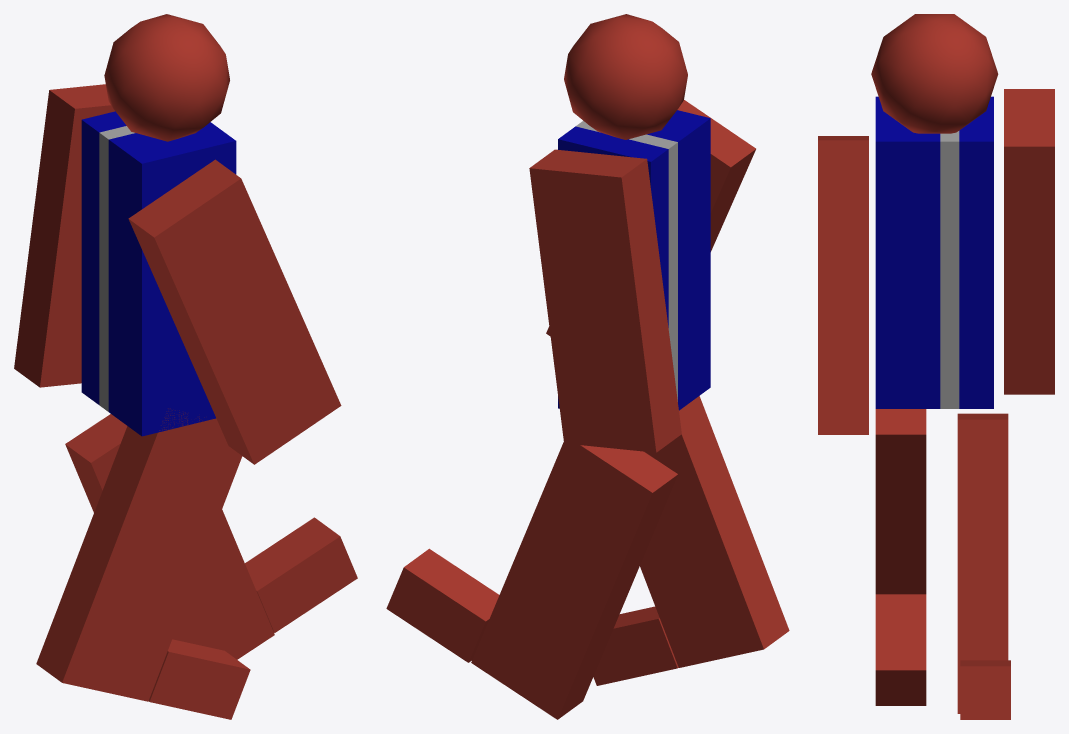
Rendered from player_000065.obj.
The picture shows the model from 3 angles, left to right: view 1: azimuth 30°, elevation 25°; view 2: azimuth 150°, elevation 25°; view 3: azimuth 270°, elevation 25°; orthographic projection. The views are drawn at different scales.
Visible parts, largest first — view 1: Cube.005, Cube.001, Cube, Cube.006, Icosphere, Cube.002, Cube.004, Cube.003; view 2: Cube.006, Cube.002, Cube.001, Cube, Icosphere, Cube.004, Cube.003, Cube.005; view 3: Cube, Cube.006, Cube.005, Cube.002, Icosphere, Cube.001, Cube.003, Cube.004.
Boxes of the visible parts, x1,y1,x2,y2 form: Cube.005: (128, 159, 341, 464); Cube.001: (36, 408, 242, 701); Cube: (81, 111, 236, 436); Cube.006: (14, 84, 114, 387); Icosphere: (104, 14, 229, 141); Cube.002: (65, 414, 274, 659); Cube.004: (245, 517, 357, 632); Cube.003: (148, 639, 250, 719); Cube.006: (529, 149, 681, 452); Cube.002: (471, 442, 677, 719); Cube.001: (640, 396, 789, 667); Cube: (558, 110, 710, 410); Icosphere: (564, 14, 687, 139); Cube.004: (386, 548, 499, 662); Cube.003: (593, 606, 678, 685); Cube.005: (546, 100, 755, 336); Cube: (875, 96, 993, 408); Cube.006: (1004, 89, 1054, 394); Cube.005: (818, 136, 868, 434); Cube.002: (957, 413, 1008, 713); Icosphere: (871, 14, 998, 133); Cube.001: (875, 409, 926, 594); Cube.003: (875, 594, 926, 705); Cube.004: (960, 660, 1010, 719).
Bounding box in the file's own units: 1.48 × 2.88 × 0.9137.
